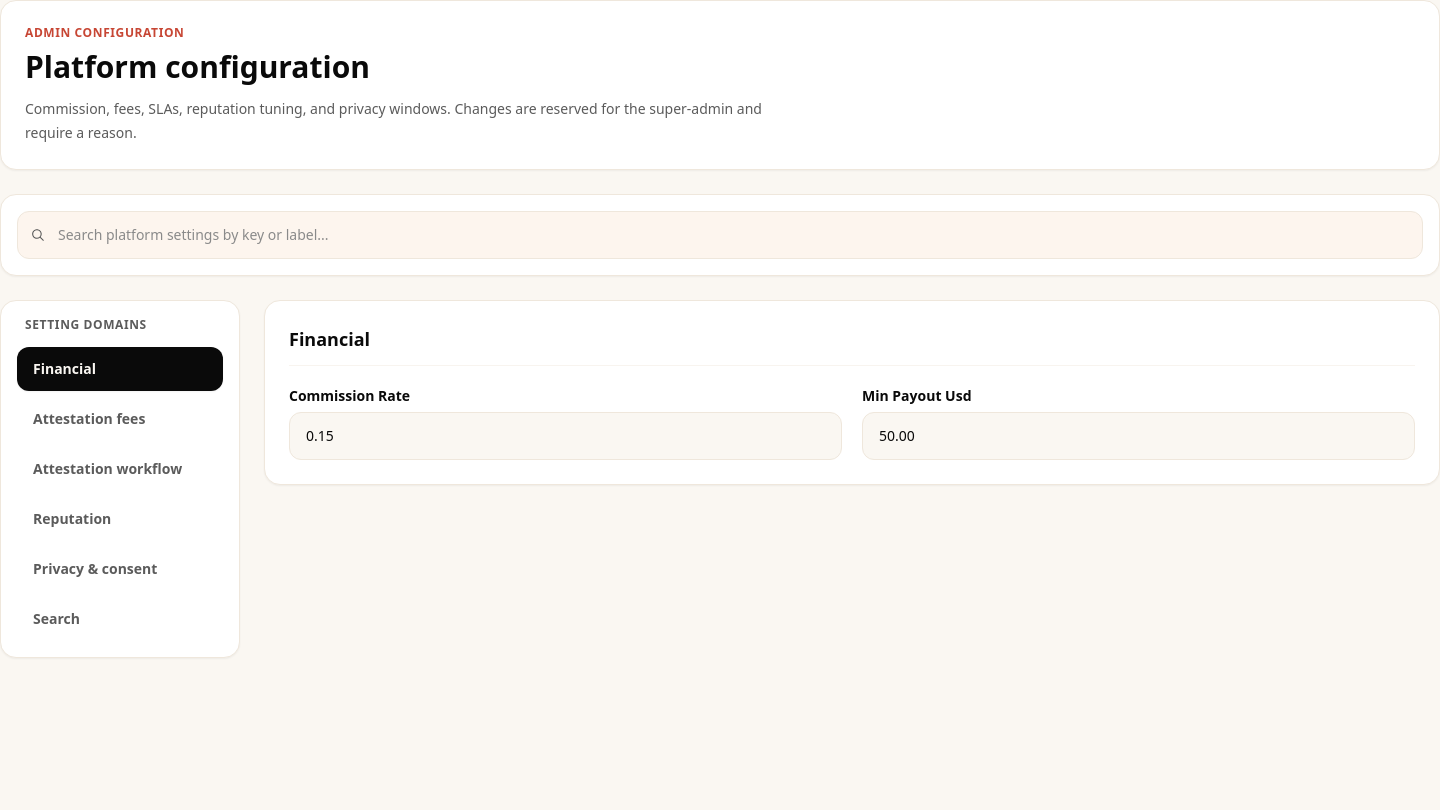
Test: AdminConfigPanel › filters settings through the search box
The width and height of the screenshot is (1440, 810).
In the field with placeholder "Search platform settings by key or label...": [734, 235] box x1=58 y1=225 x2=1410 y2=245, type "zzz-no-match"
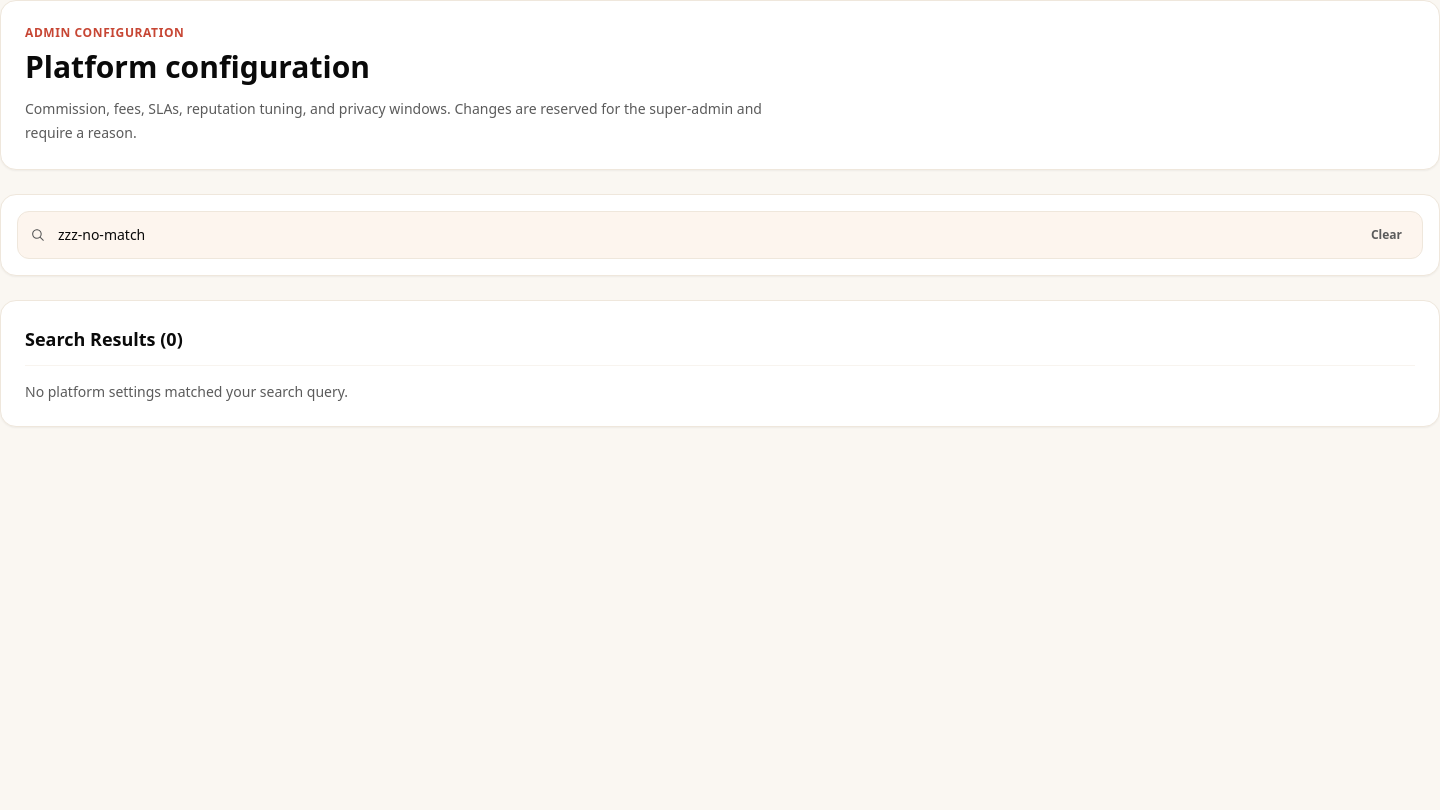
Expected: the text "No platform settings matched your search query." is shown, x1=25 y1=382 x2=348 y2=401
